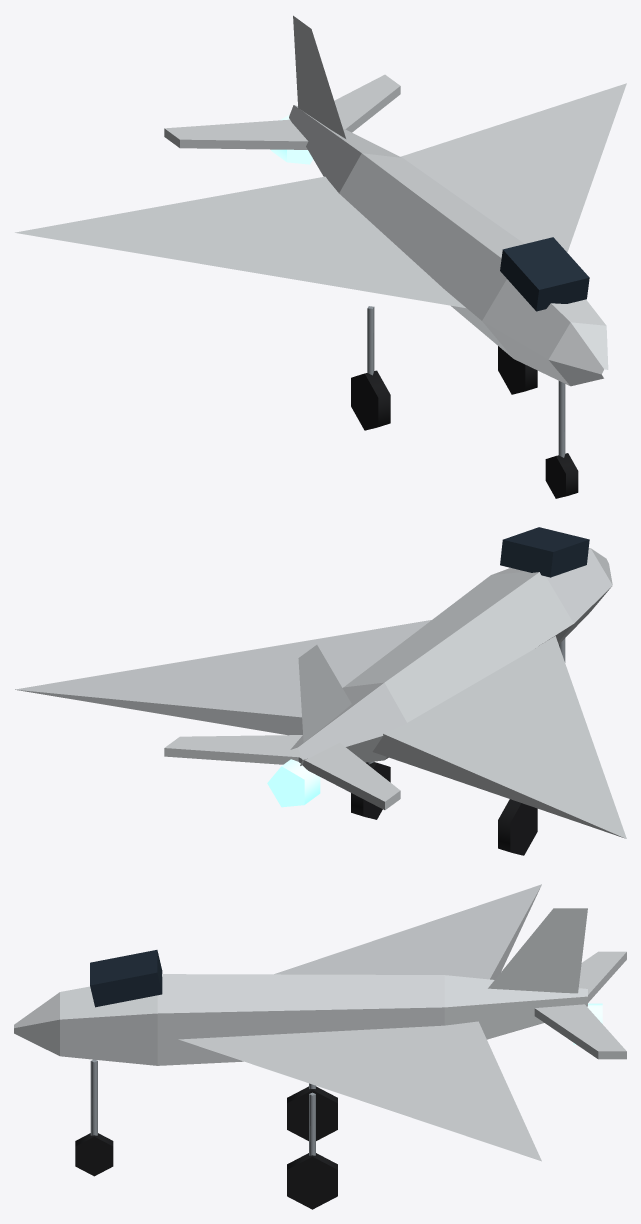
Rendered from veh_air_fighter_a09_lod1.glb.
3 views of the same model, one above another, from view 1: azimuth 30°, elevation 25°; view 2: azimuth 150°, elevation 25°; view 3: azimuth 270°, elevation 25° (orthographic). The views are drawn at different scales.
Parts seen in each view (by area): view 1: body, gear_1, gear_0, gear_2; view 2: body, gear_1, gear_2; view 3: body, gear_2, gear_1, gear_0.
Boxes of the visible parts, x1,y1,x2,y2 form: body: (15, 15, 626, 386); gear_1: (351, 306, 390, 430); gear_0: (545, 381, 578, 498); gear_2: (498, 346, 537, 394); body: (15, 527, 626, 838); gear_1: (498, 799, 537, 855); gear_2: (351, 761, 390, 819); body: (14, 884, 626, 1161); gear_2: (287, 1092, 337, 1209); gear_1: (287, 1083, 337, 1140); gear_0: (75, 1059, 113, 1176).
Bounding box in the file's own units: 8.96 × 4.02 × 8.37.
